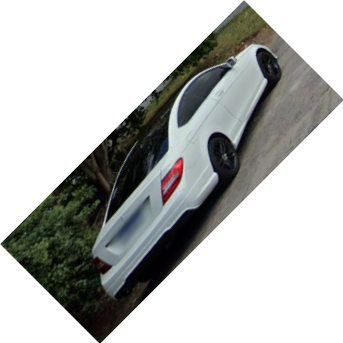car: (90, 43, 282, 301)
